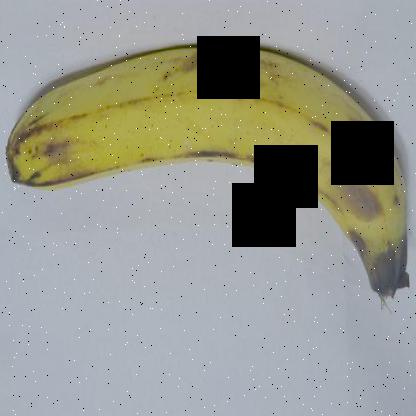ripe: (3, 31, 415, 316)
